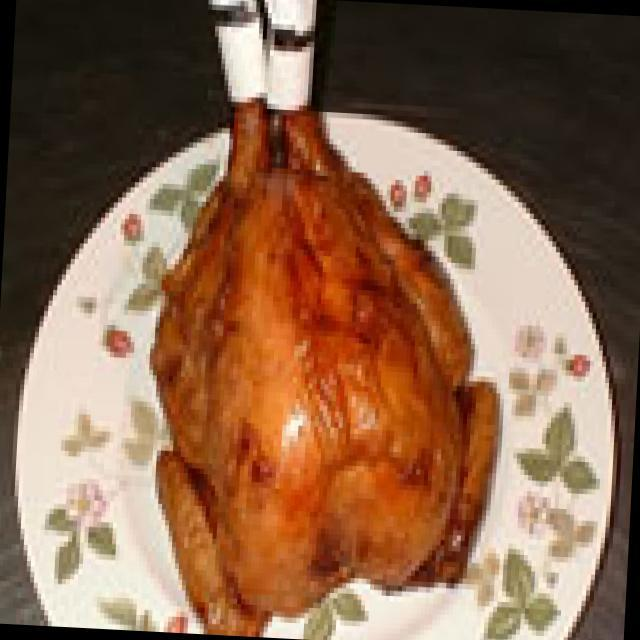Chicken: (131, 99, 531, 640)
